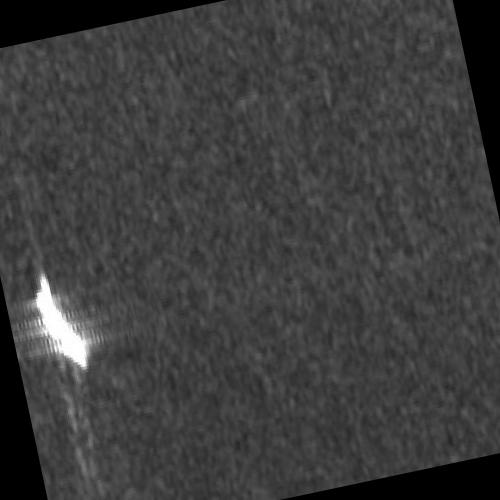ship: (36, 272, 87, 366)
